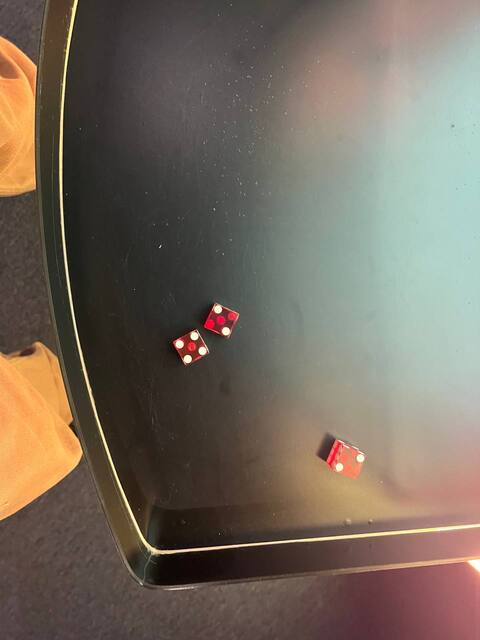four: (168, 327, 213, 368)
two: (202, 301, 242, 340), (329, 449, 368, 483)
